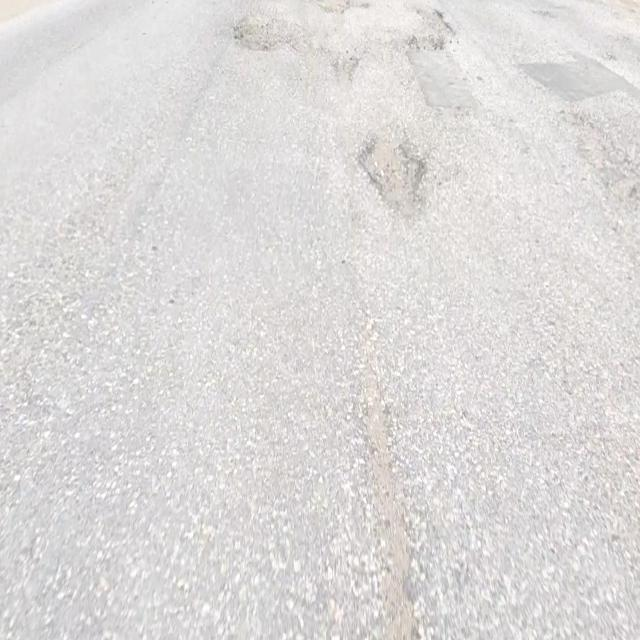Potholes: (357, 131, 427, 209), (228, 15, 309, 51), (407, 7, 457, 52), (315, 0, 372, 14)
